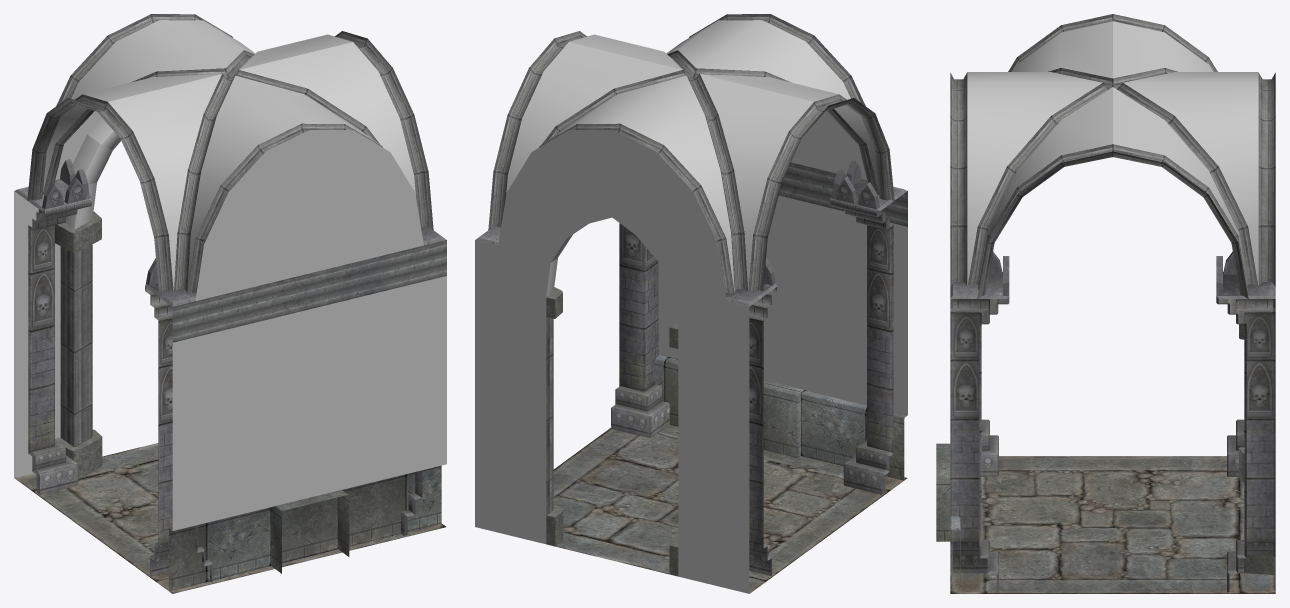
The model's file is tunnel_doorway.FBX.
3 views of the same model, side by side, from view 1: azimuth 30°, elevation 25°; view 2: azimuth 150°, elevation 25°; view 3: azimuth 270°, elevation 25° (orthographic). The views are drawn at different scales.
Parts seen in each view (by area): view 1: tunnel_doorway; view 2: tunnel_doorway; view 3: tunnel_doorway.
Boxes of the visible parts, x1,y1,x2,y2 form: tunnel_doorway: [14, 14, 446, 593]; tunnel_doorway: [475, 14, 907, 593]; tunnel_doorway: [936, 14, 1275, 593].
Size of the model in its own units: 500 by 750 by 521.
